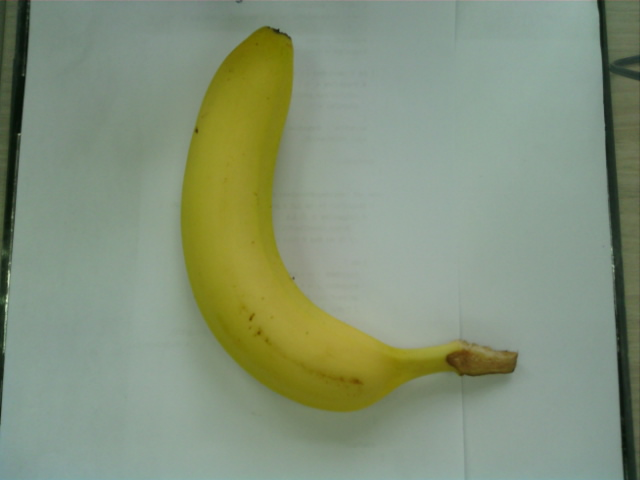normal_banana: (180, 21, 491, 411)
